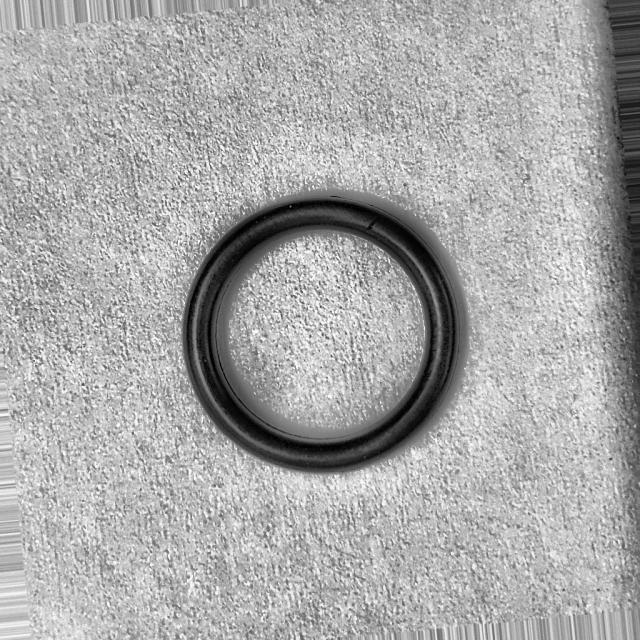切割缺陷: (360, 211, 387, 238)
